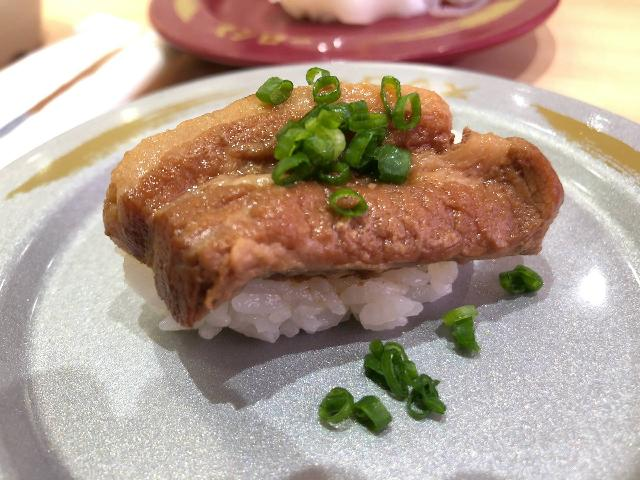janred: (139, 2, 548, 55)
janwhite: (13, 87, 640, 473)
